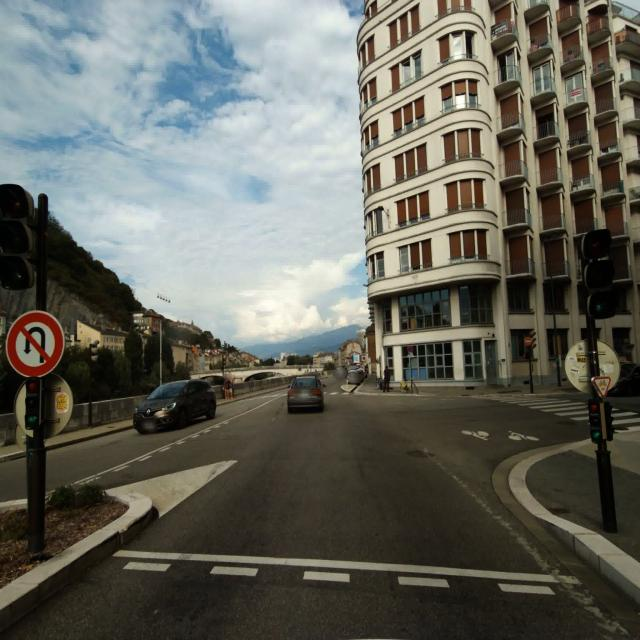car: (132, 378, 217, 434), (286, 374, 325, 414), (616, 360, 640, 397)
